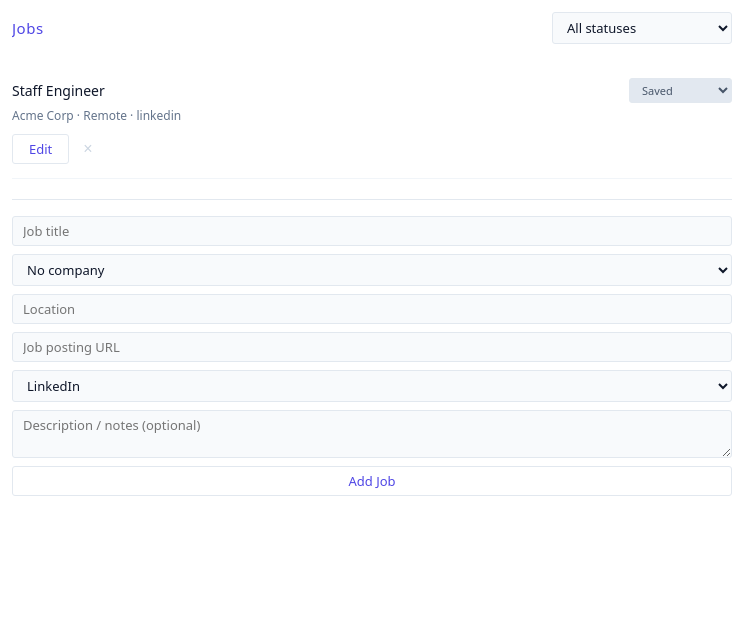
Test: JobsList › adds a new job when form submitted
Expected: the text "Staff Engineer" is shown, [12, 81, 105, 100]
In the field with placeholder "Job title": (372, 231) [12, 216, 732, 246], type "New Job"
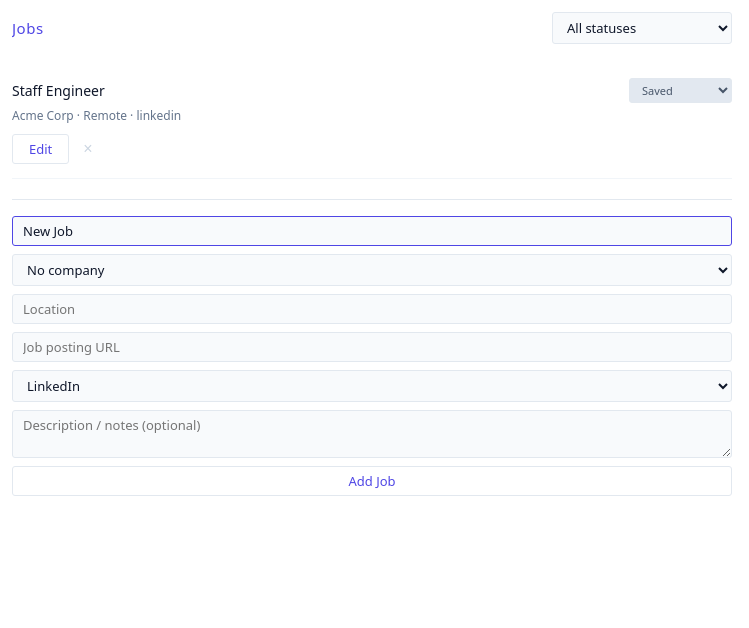
Click the button "Add Job": (372, 481) [12, 466, 732, 496]
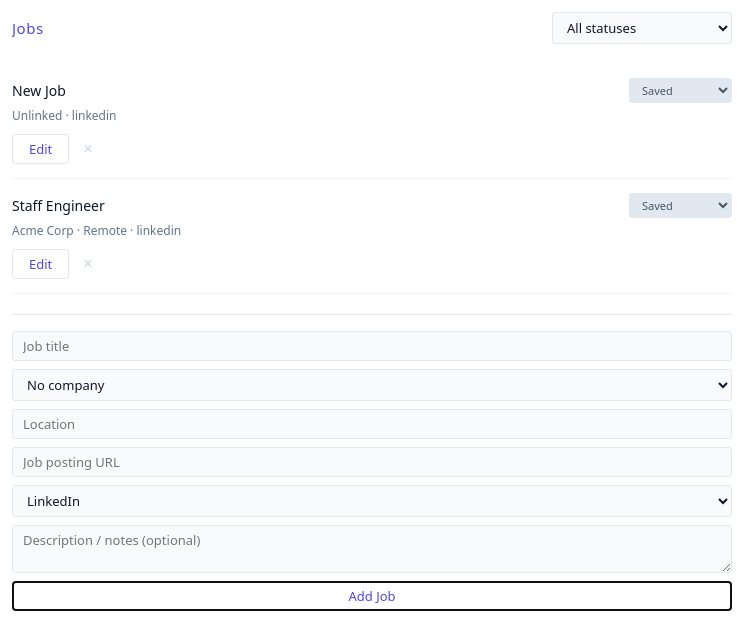
Expected: the text "New Job" is shown, [12, 81, 66, 100]
